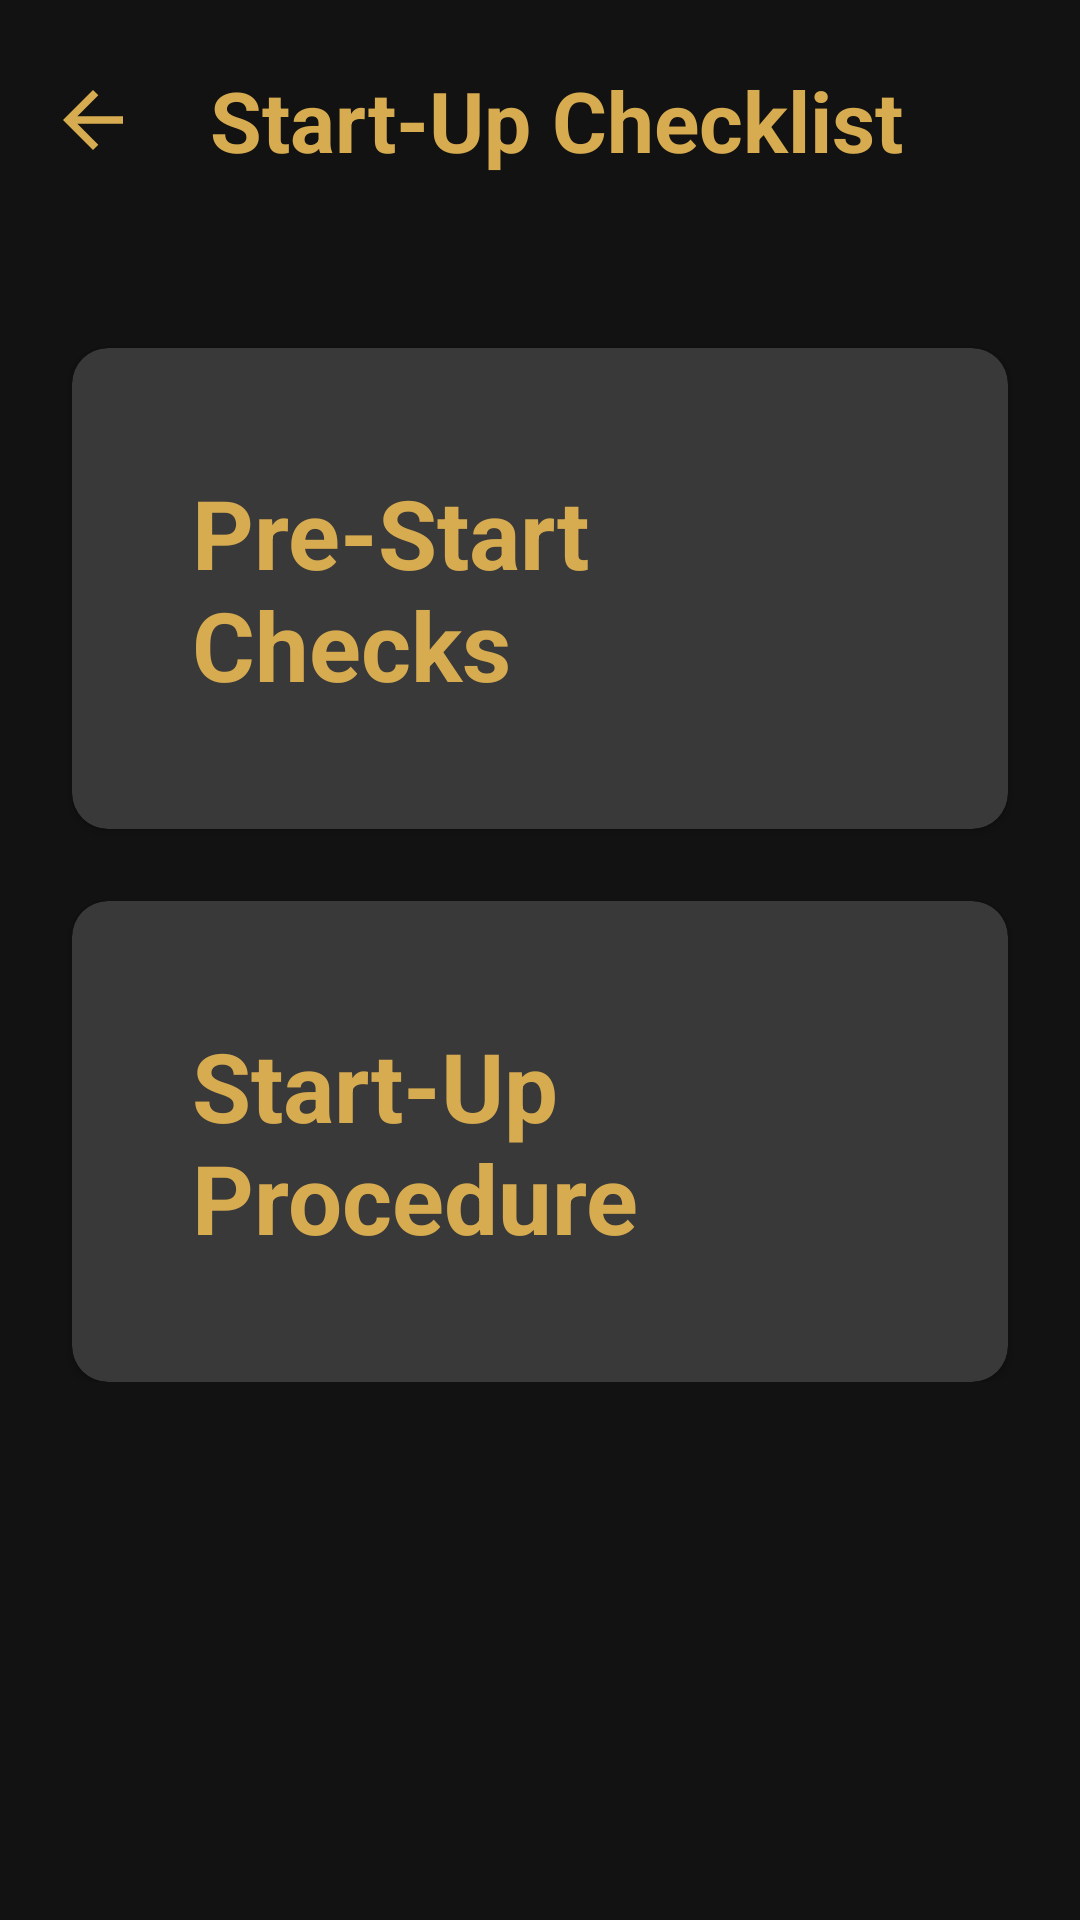

Named icons in this screenshot (1080x1920) and their centers, [x,y]:
arrow back: [93,120]
